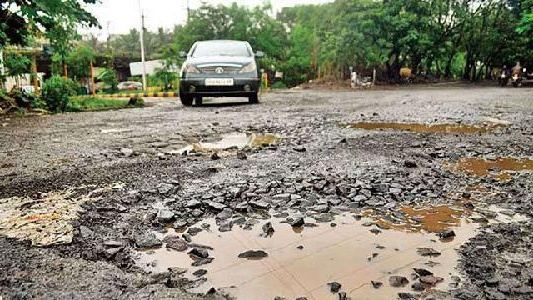pothole: (65, 174, 533, 300), (167, 121, 291, 158), (340, 117, 498, 138), (433, 147, 533, 176)
